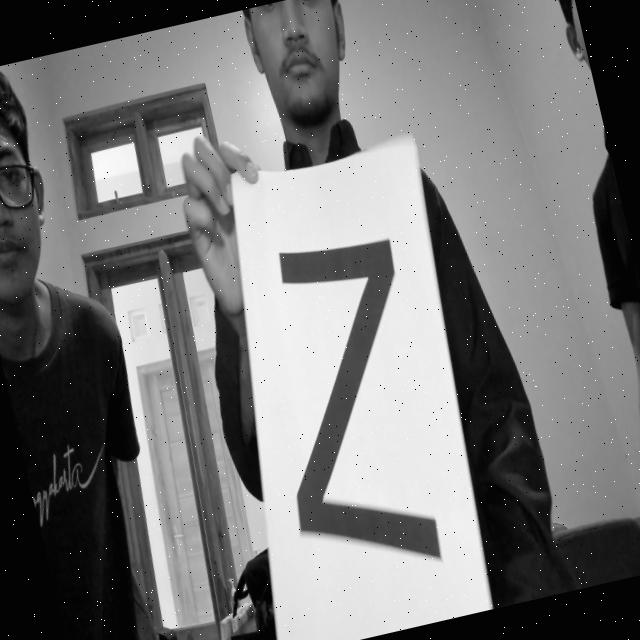z: (227, 200, 494, 588)
